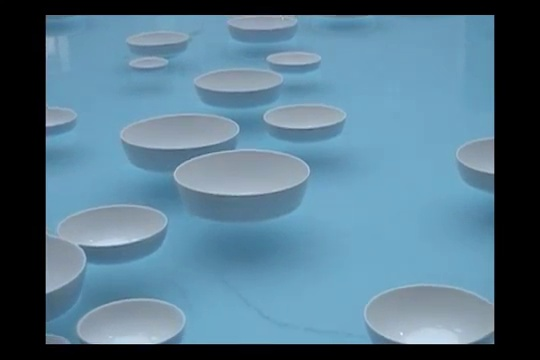bowl: (174, 150, 310, 221), (363, 283, 494, 344), (120, 114, 241, 173), (57, 205, 168, 263), (76, 299, 187, 345), (194, 69, 283, 106), (46, 235, 83, 323), (262, 105, 347, 139), (227, 16, 298, 42), (125, 31, 189, 56), (266, 52, 320, 73), (129, 57, 168, 73)
